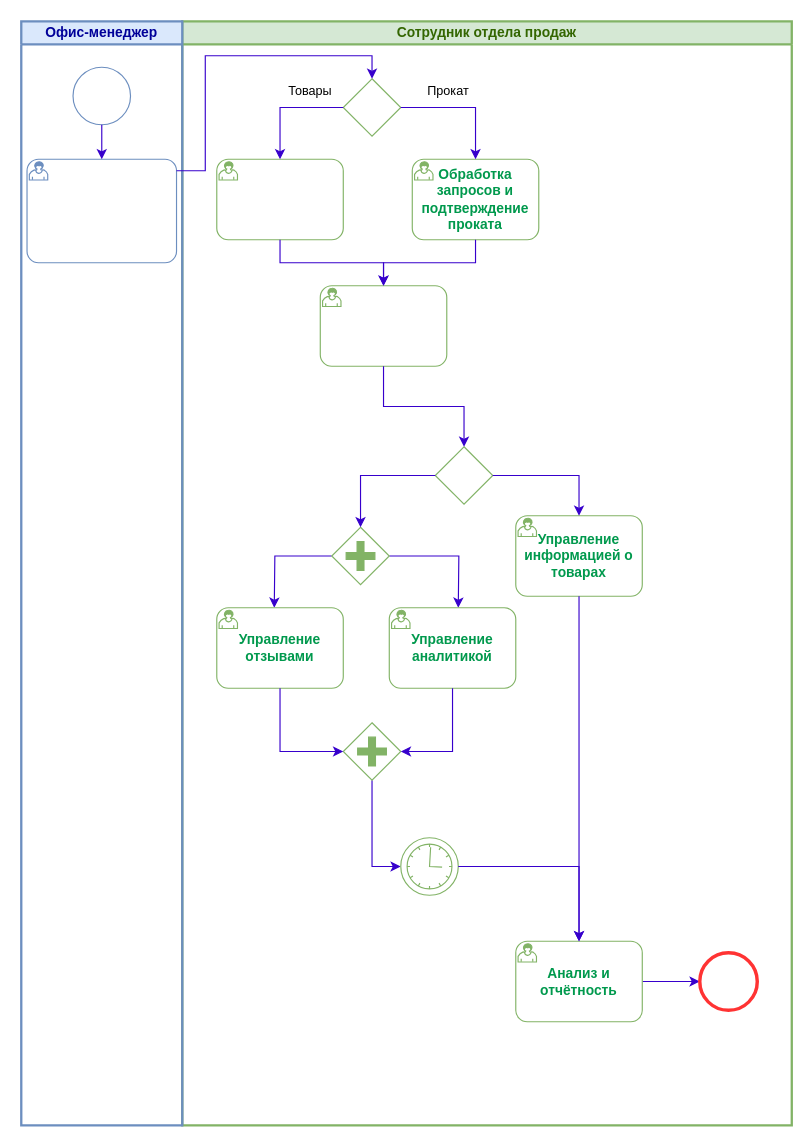
Some shapes in this 812 by 1145 pixel diagram are drawn without their labels. Each missing label, with the box of its shape:
Произвести оформление проката товара: (26, 158, 177, 263)
Управление доступностью и резервацией товаров: (216, 158, 343, 240)
Управление оплатой и изменениями: (319, 285, 447, 366)
